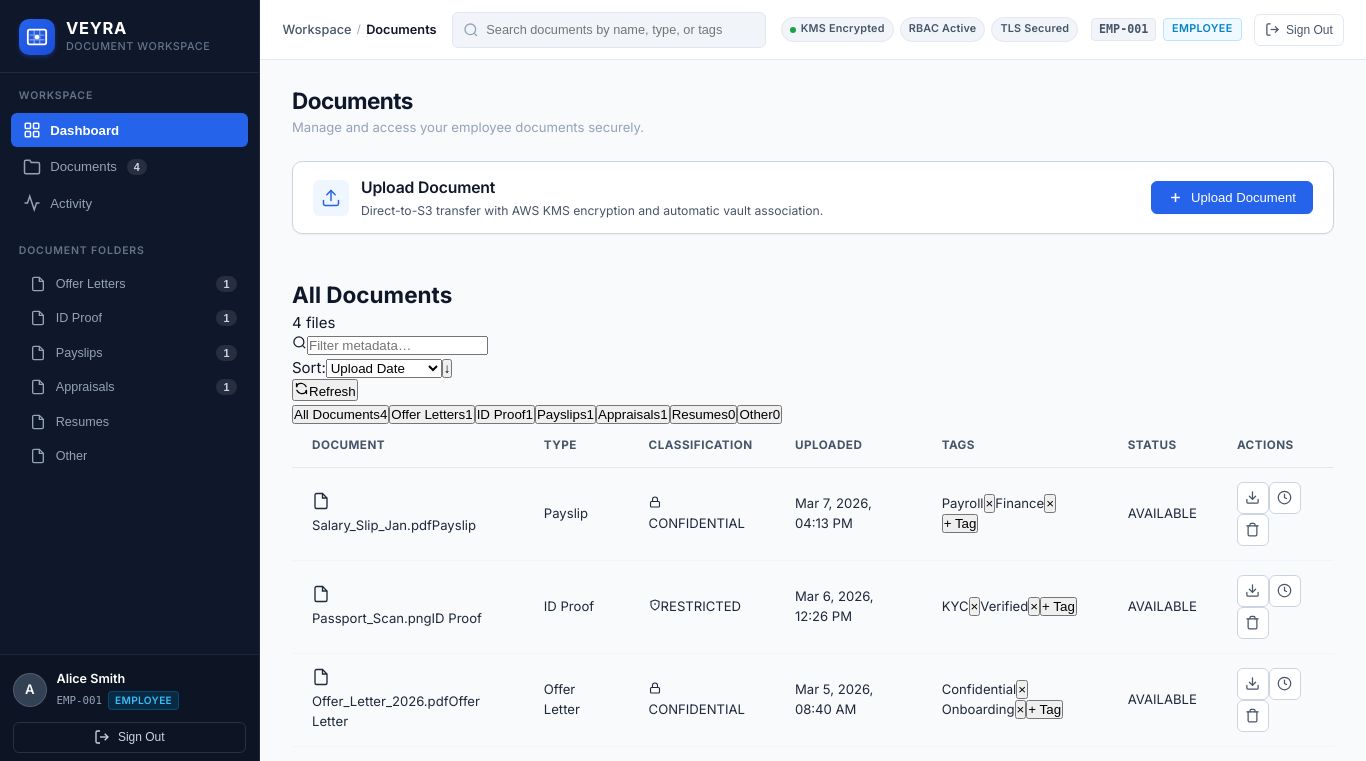
Test: VEYRA Document Browser & Specification Features › displays error notice and retry option when getDocumentVersions fails
This screenshot has width=1366, height=761.
Expected: the text "Offer_Letter_2026.pdf" is shown, [312, 693, 448, 709]
Click the button named "view version history for Offer_Letter_2026.pdf" at (1285, 684), box [1269, 668, 1301, 700]
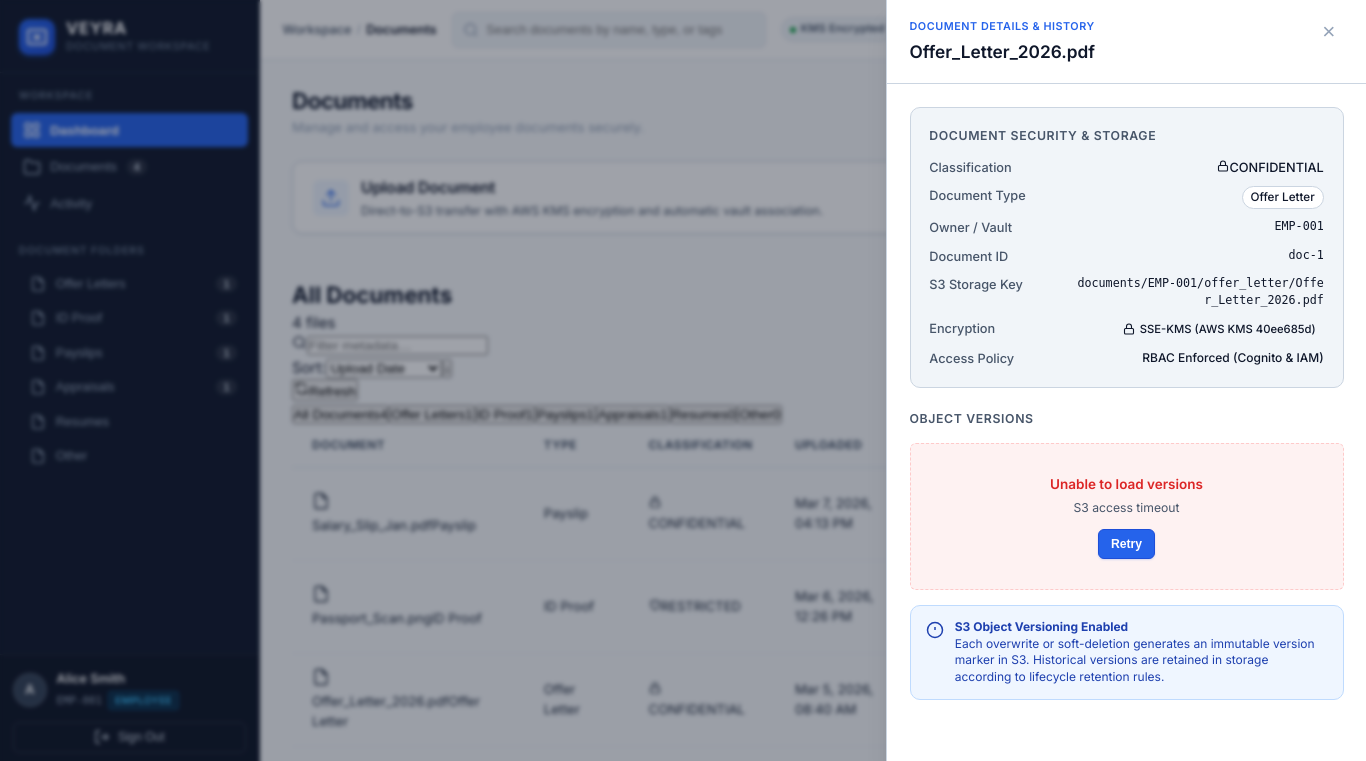
Expected: the element with test id "versions-error" is shown, [910, 444, 1344, 590]
Expected: the text "S3 access timeout" is shown, [1074, 499, 1180, 517]
Click the button "Retry" at (1126, 544), box [1098, 529, 1155, 559]
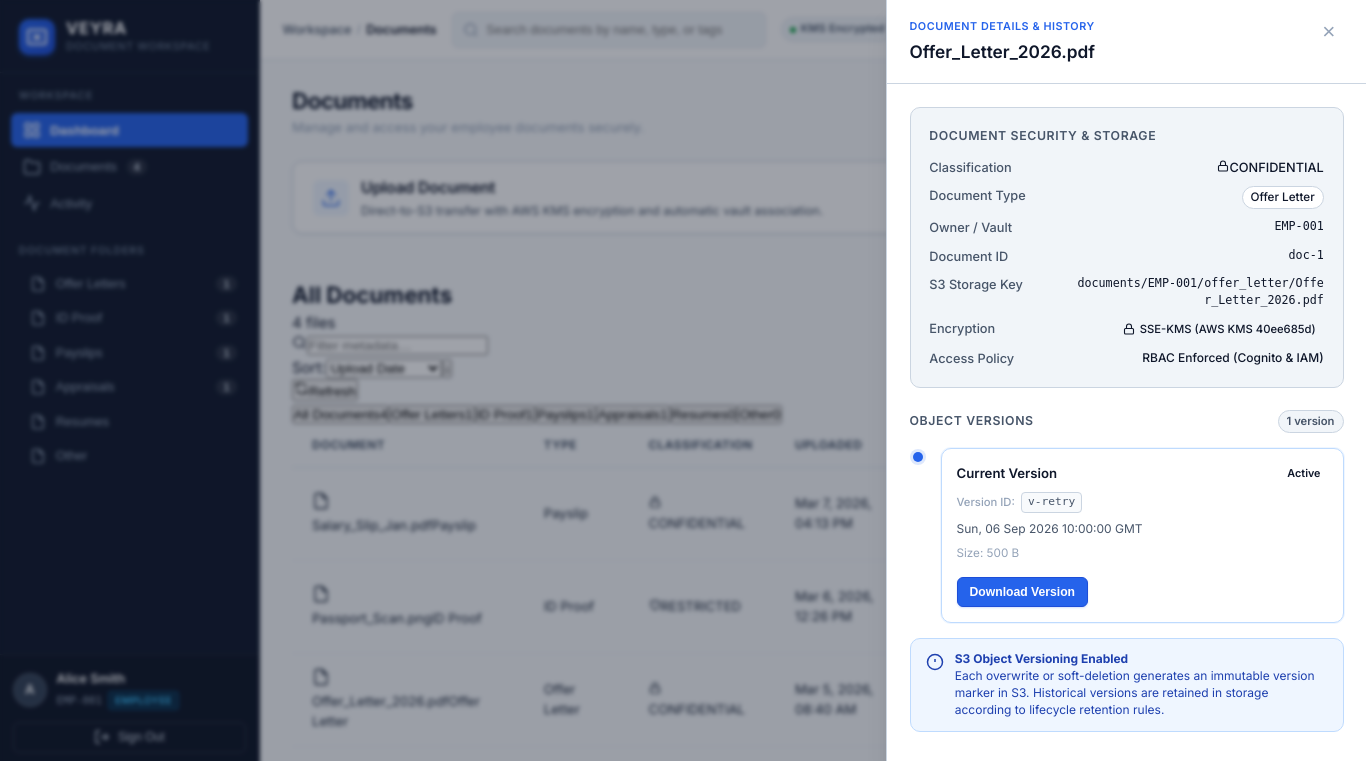
Expected: the text "v-retry" is shown, [1021, 492, 1082, 513]
